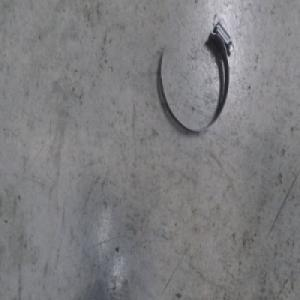AdjustableClamp: (157, 17, 235, 138)
